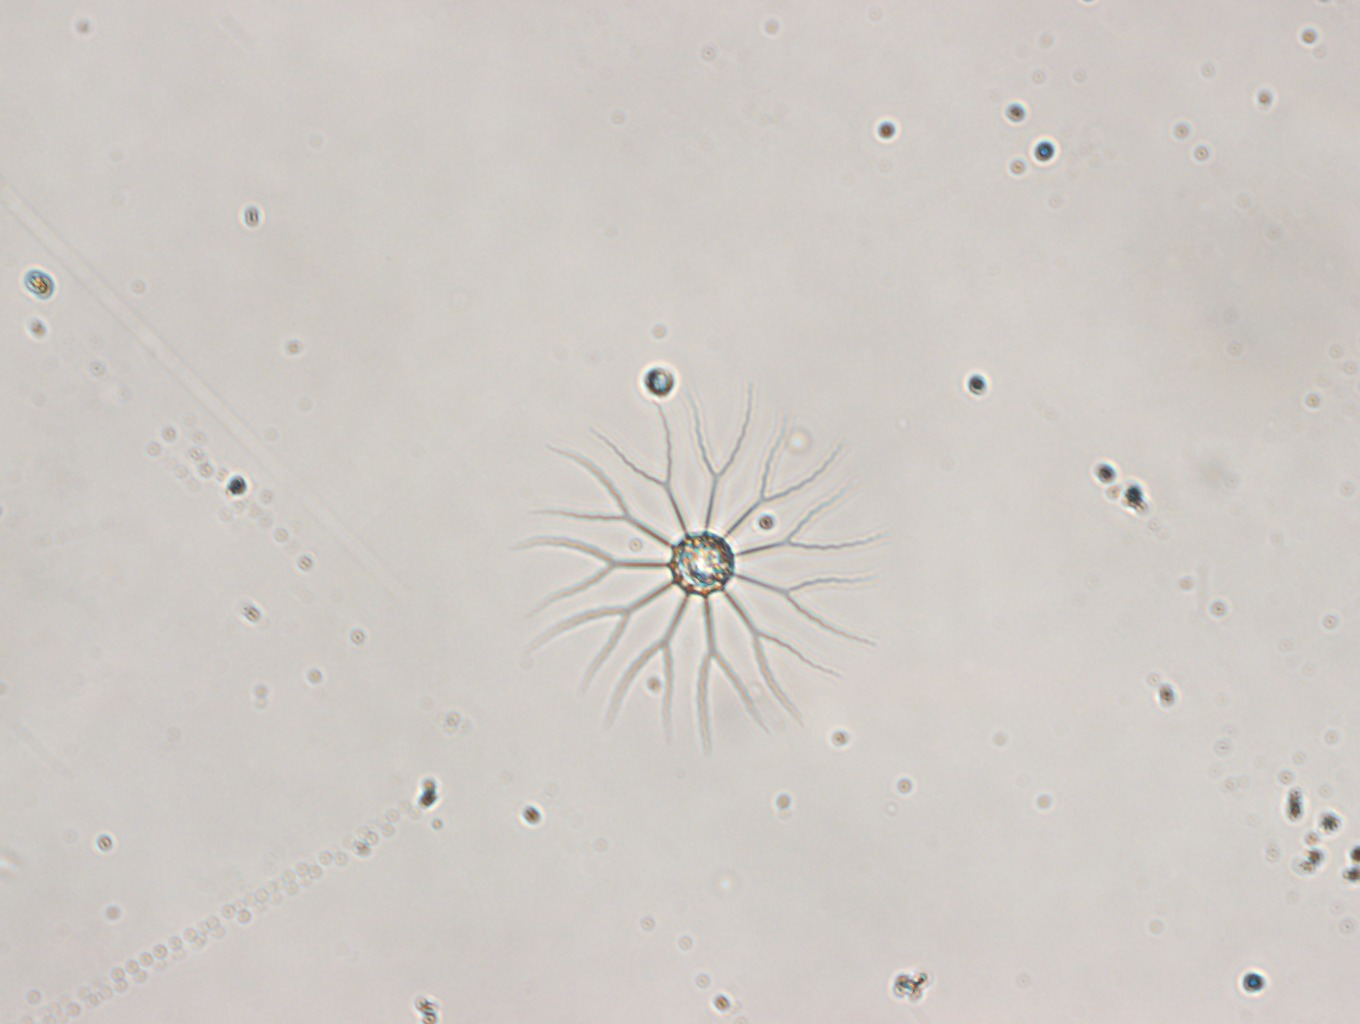bacteriastrum: (512, 389, 879, 751)
